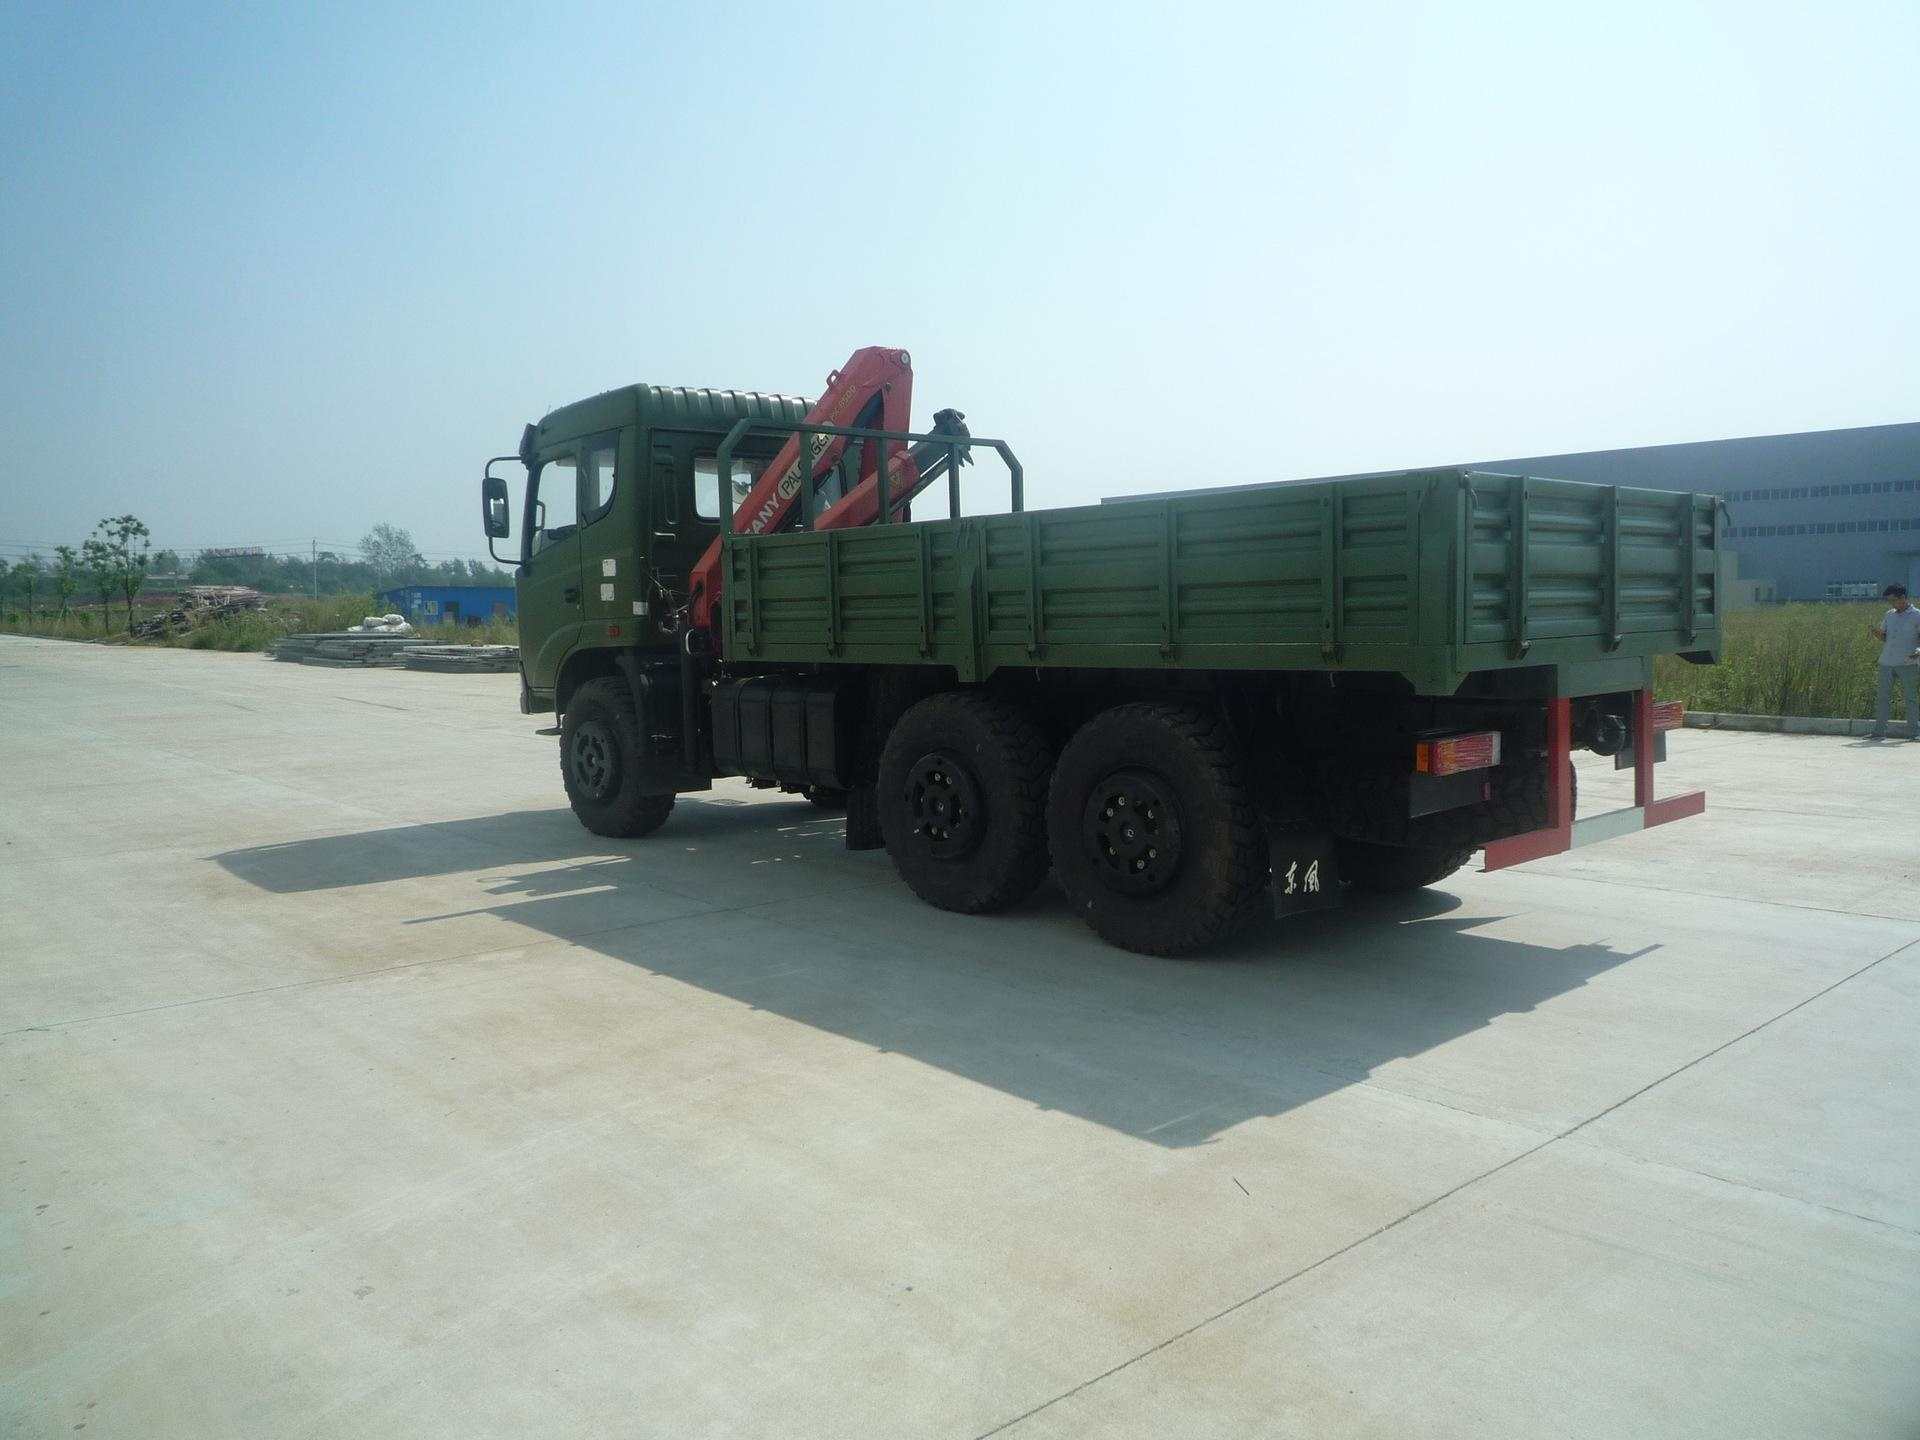heavy truck: (485, 312, 1725, 998)
